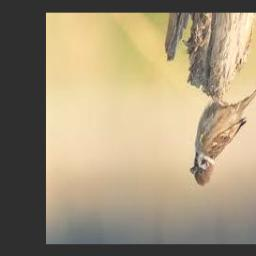Sparrow: (190, 81, 256, 186)
